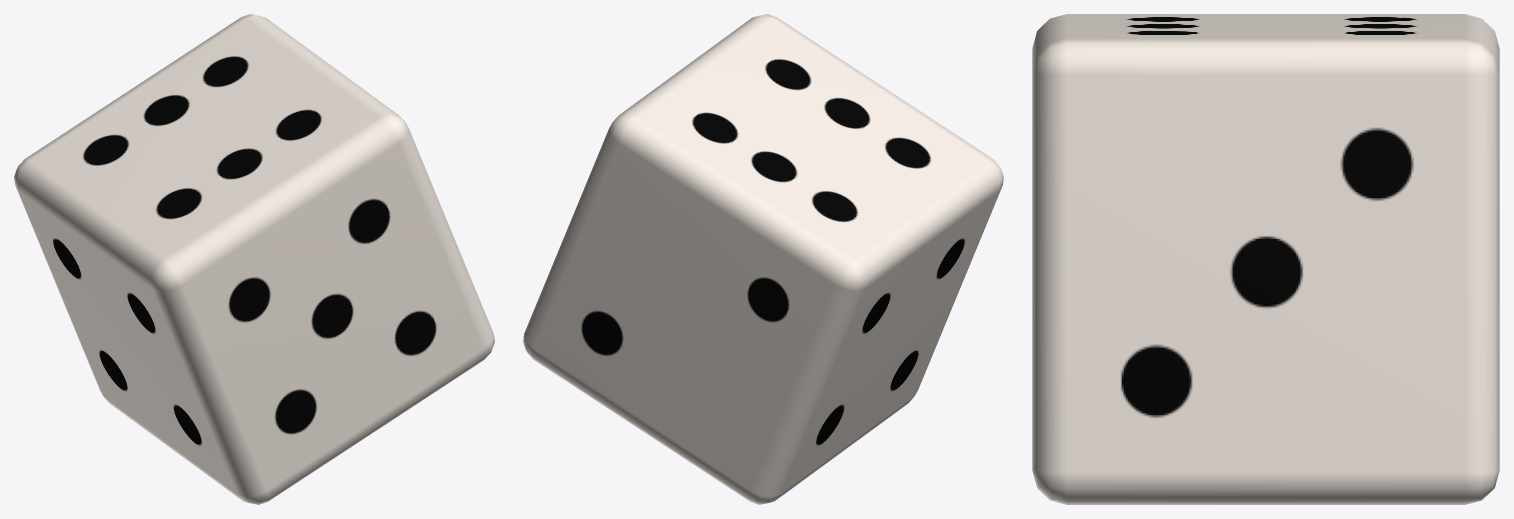
Rendered from dice_1_Anim.fbx.
3 renders of one model, left to right at view 1: azimuth 30°, elevation 25°; view 2: azimuth 150°, elevation 25°; view 3: azimuth 270°, elevation 25°, orthographic. The views are drawn at different scales.
Visible parts, largest first — view 1: pCube1; view 2: pCube1; view 3: pCube1.
Part boxes in pixels (bbox=[...]): pCube1: bbox=[14, 14, 494, 504]; pCube1: bbox=[523, 14, 1003, 504]; pCube1: bbox=[1032, 14, 1499, 504].
Size of the model in its own units: 0.7641 by 0.7641 by 0.6109.
